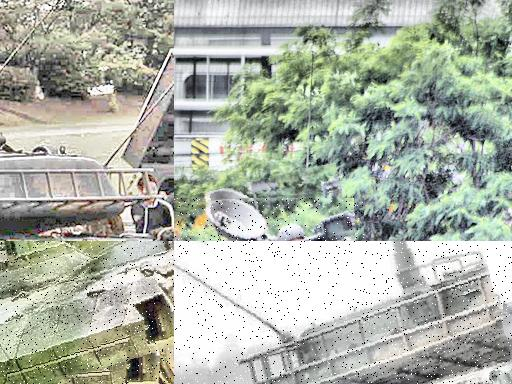tanks: (247, 242, 512, 384), (1, 242, 175, 384), (341, 303, 512, 384), (1, 153, 156, 242)
